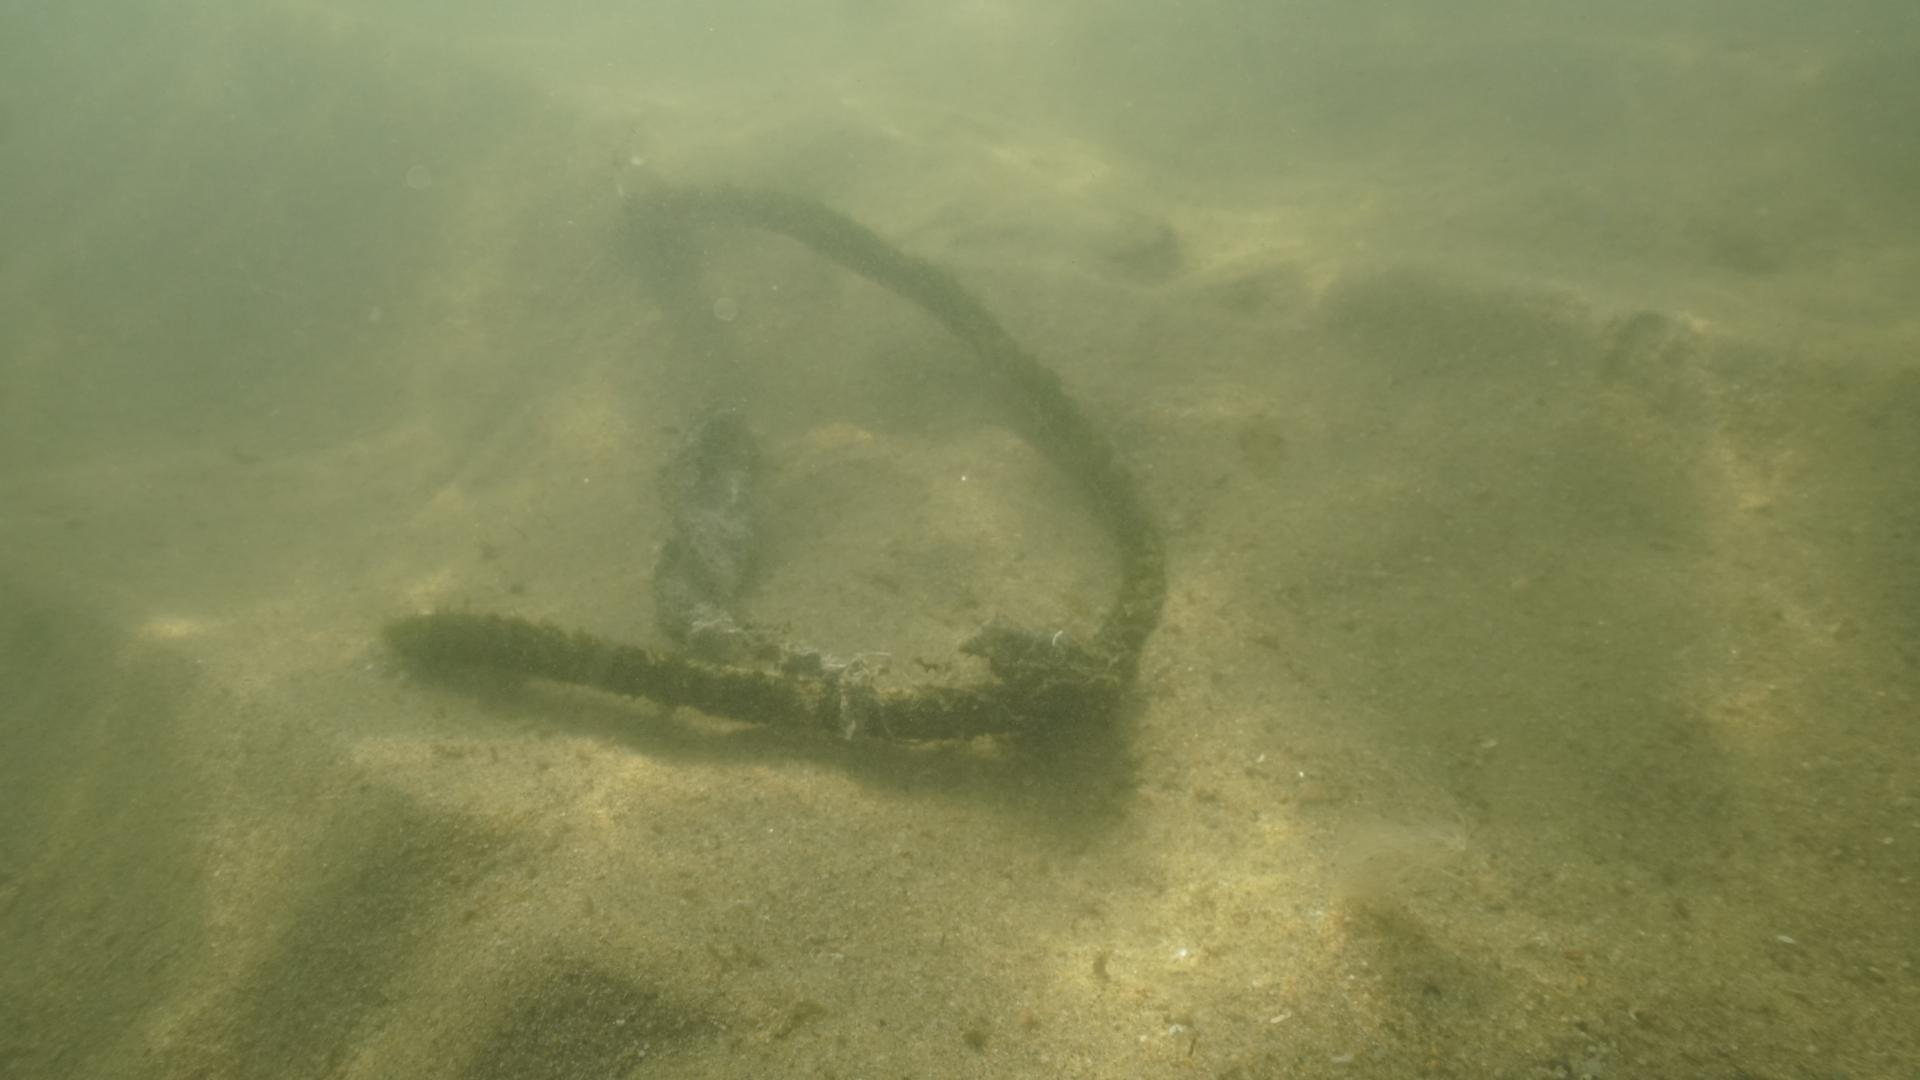rope: (378, 175, 1182, 742)
